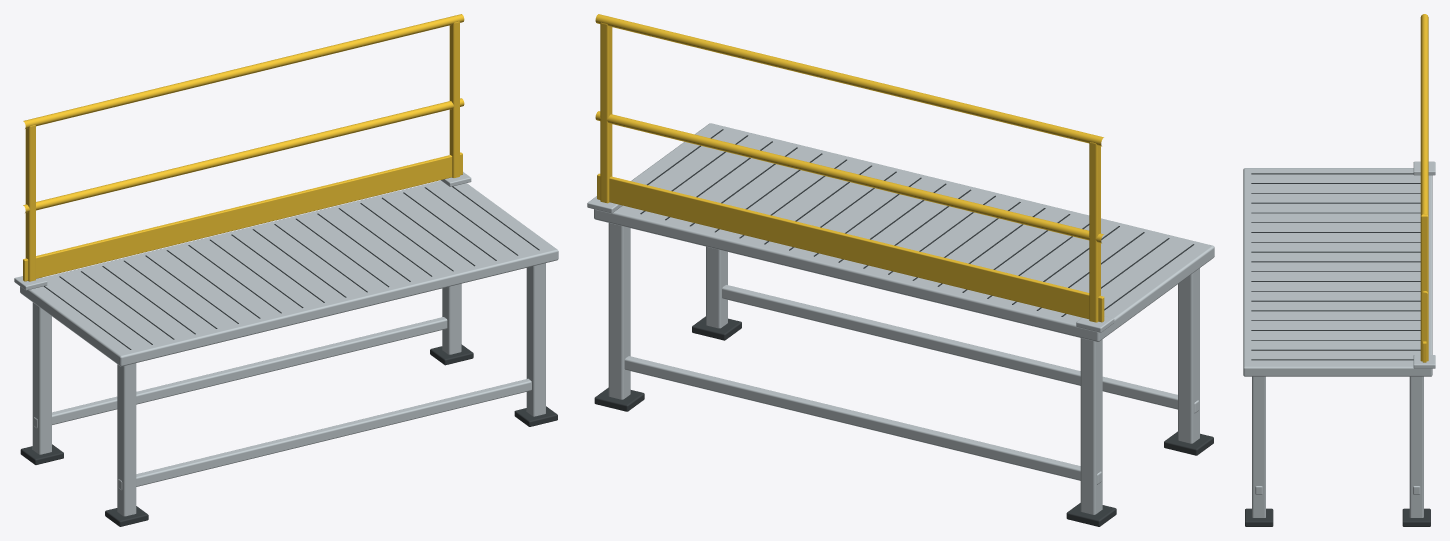
File: recycling-centre-and-material-sorting-maintenance-plat-31f93b3e__31144.glb
3 renders of one model, left to right at view 1: azimuth 30°, elevation 25°; view 2: azimuth 150°, elevation 25°; view 3: azimuth 270°, elevation 25°, orthographic. The views are drawn at different scales.
Visible parts, largest first — view 1: maintenance-platform; view 2: maintenance-platform; view 3: maintenance-platform.
Boxes of the visible parts, x1,y1,x2,y2 form: maintenance-platform: [14, 14, 558, 526]; maintenance-platform: [587, 14, 1214, 526]; maintenance-platform: [1243, 14, 1435, 526].
Size of the model in its own units: 3.05 by 2.19 by 1.22.
